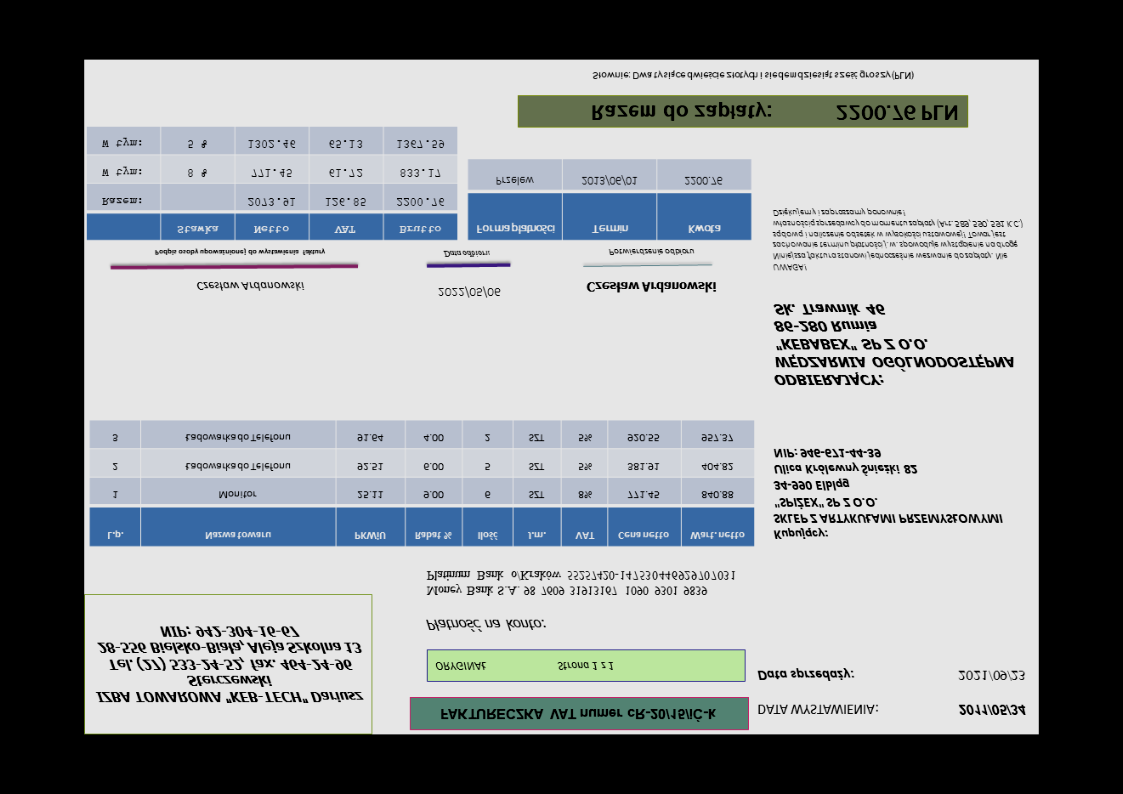Table: (88, 418, 757, 549), (85, 125, 459, 242), (466, 157, 753, 243)
TextBox: (93, 621, 365, 708), (770, 445, 1007, 544), (771, 300, 1018, 388), (770, 206, 1025, 275), (423, 568, 739, 600), (588, 99, 961, 124), (589, 67, 916, 83), (439, 706, 719, 724), (432, 658, 615, 676), (423, 615, 548, 635), (583, 279, 719, 297), (755, 701, 880, 719), (151, 247, 328, 259), (195, 279, 307, 296), (756, 666, 856, 684), (956, 701, 1029, 719), (955, 667, 1027, 684), (605, 246, 696, 258), (436, 284, 502, 300), (440, 248, 492, 260)
